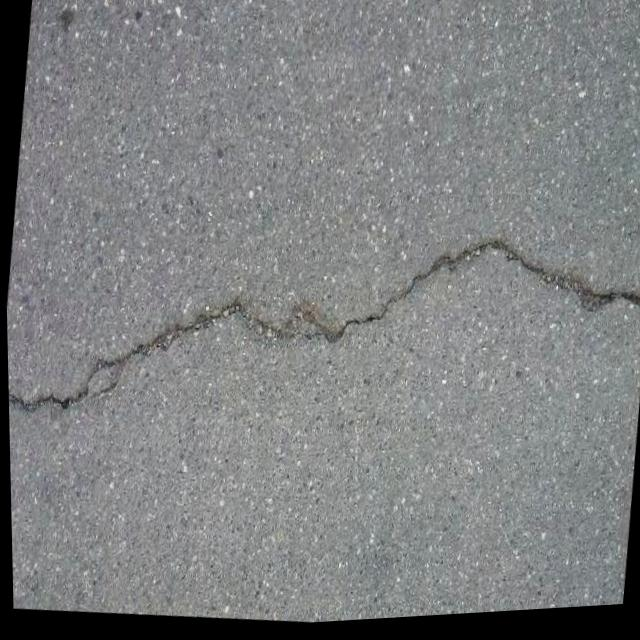Crack: (4, 174, 640, 488)
